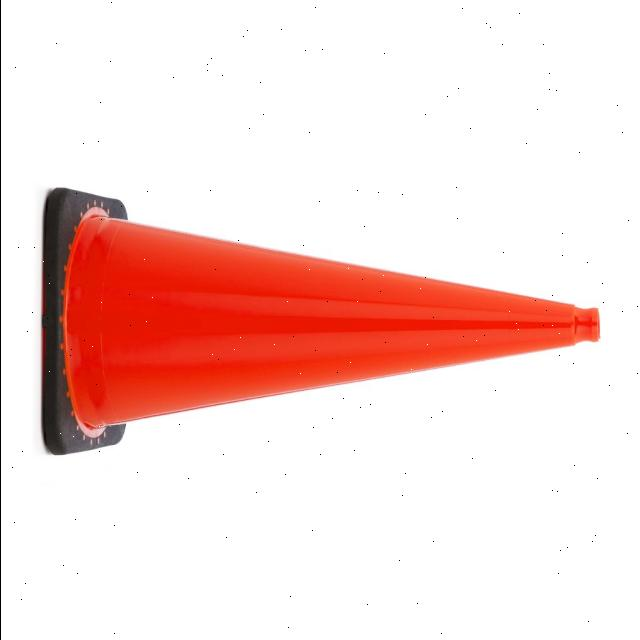traffic cone: (30, 183, 610, 467)
